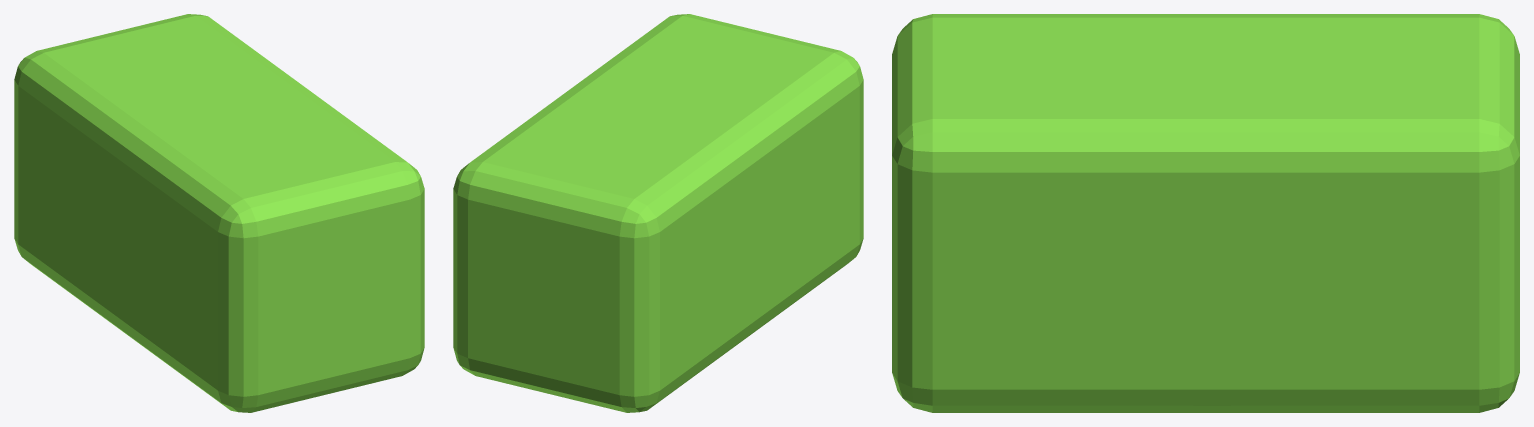
The model's file is GrassBlock.fbx.
The picture shows the model from 3 angles, left to right: view 1: azimuth 30°, elevation 25°; view 2: azimuth 150°, elevation 25°; view 3: azimuth 270°, elevation 25°; orthographic projection. The views are drawn at different scales.
Visible parts, largest first — view 1: Cube; view 2: Cube; view 3: Cube.
Boxes of the visible parts, x1=… form: Cube: x1=14, y1=14, x2=424, y2=412; Cube: x1=453, y1=14, x2=863, y2=412; Cube: x1=892, y1=14, x2=1519, y2=412.
Bounding box in the file's own units: 200 × 200 × 392.
